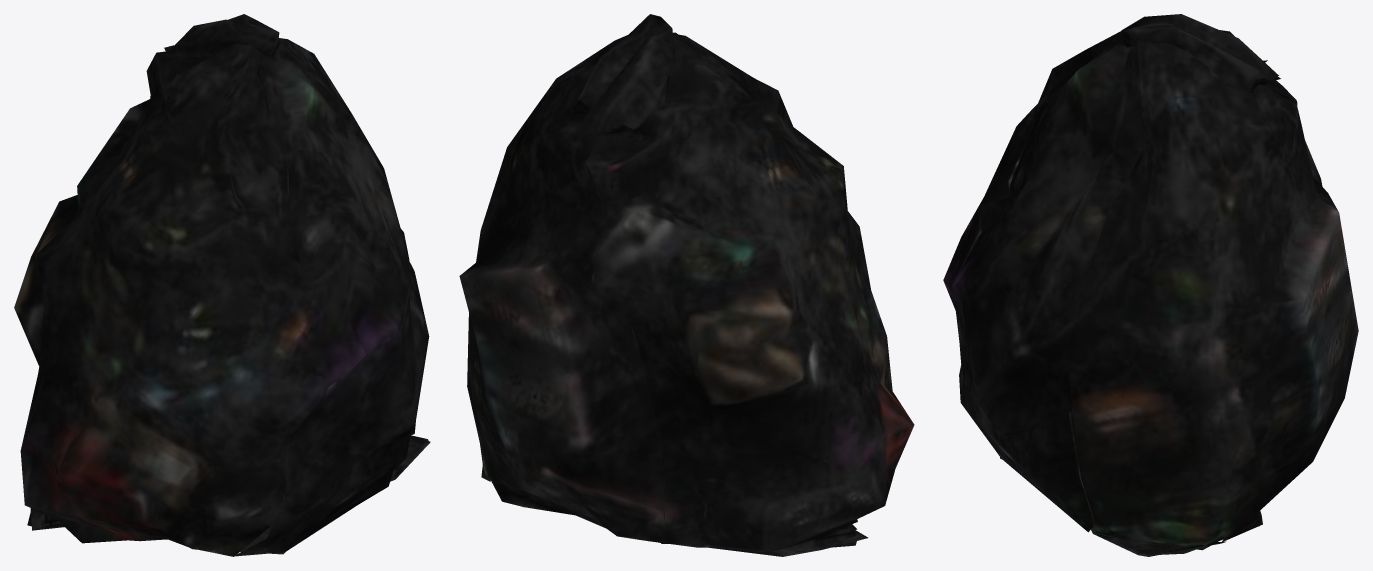
Rendered from trashbag.glb.
3 renders of one model, left to right at view 1: azimuth 30°, elevation 25°; view 2: azimuth 150°, elevation 25°; view 3: azimuth 270°, elevation 25°, orthographic.
Parts seen in each view (by area): view 1: trashbag; view 2: trashbag; view 3: trashbag.
Part boxes in pixels (x1=…): trashbag: x1=14, y1=14, x2=430, y2=556; trashbag: x1=459, y1=14, x2=914, y2=556; trashbag: x1=943, y1=14, x2=1358, y2=556.
Size of the model in its own units: 0.5184 by 0.5718 by 0.466.
1 material, 1 textured.
